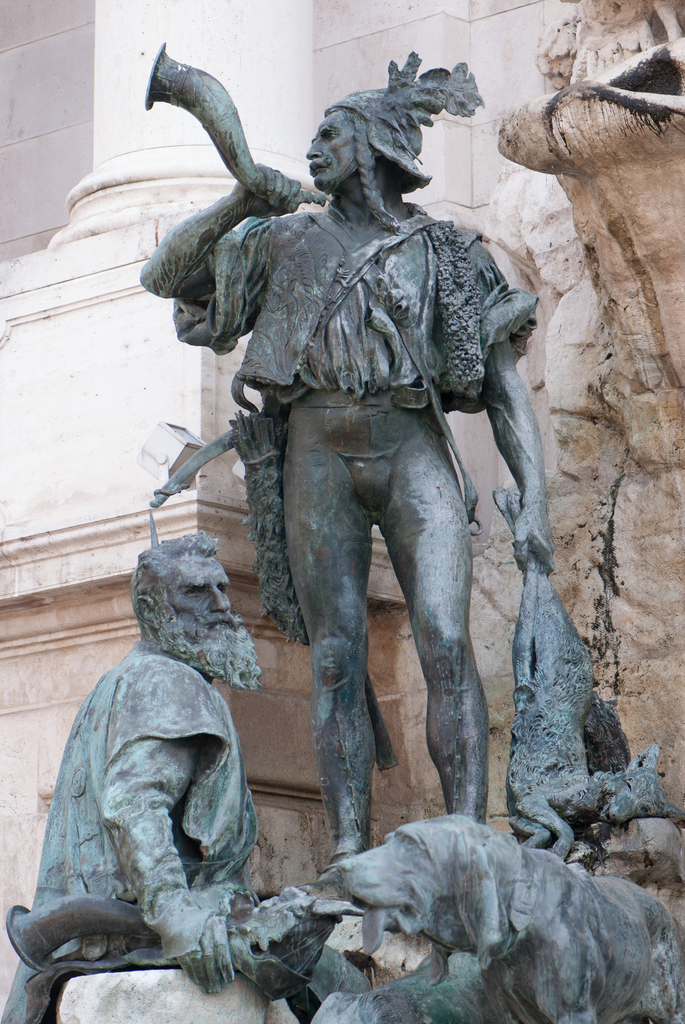Animal: (312, 814, 683, 1018), (501, 482, 683, 861)
